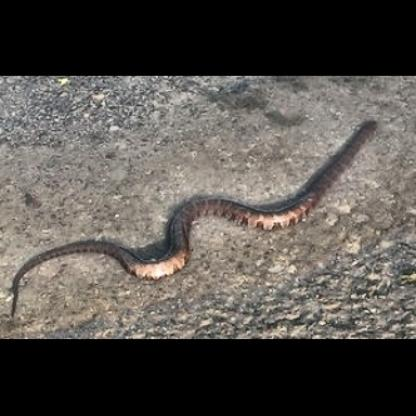Snake: (2, 188, 410, 286), (306, 115, 386, 181)
